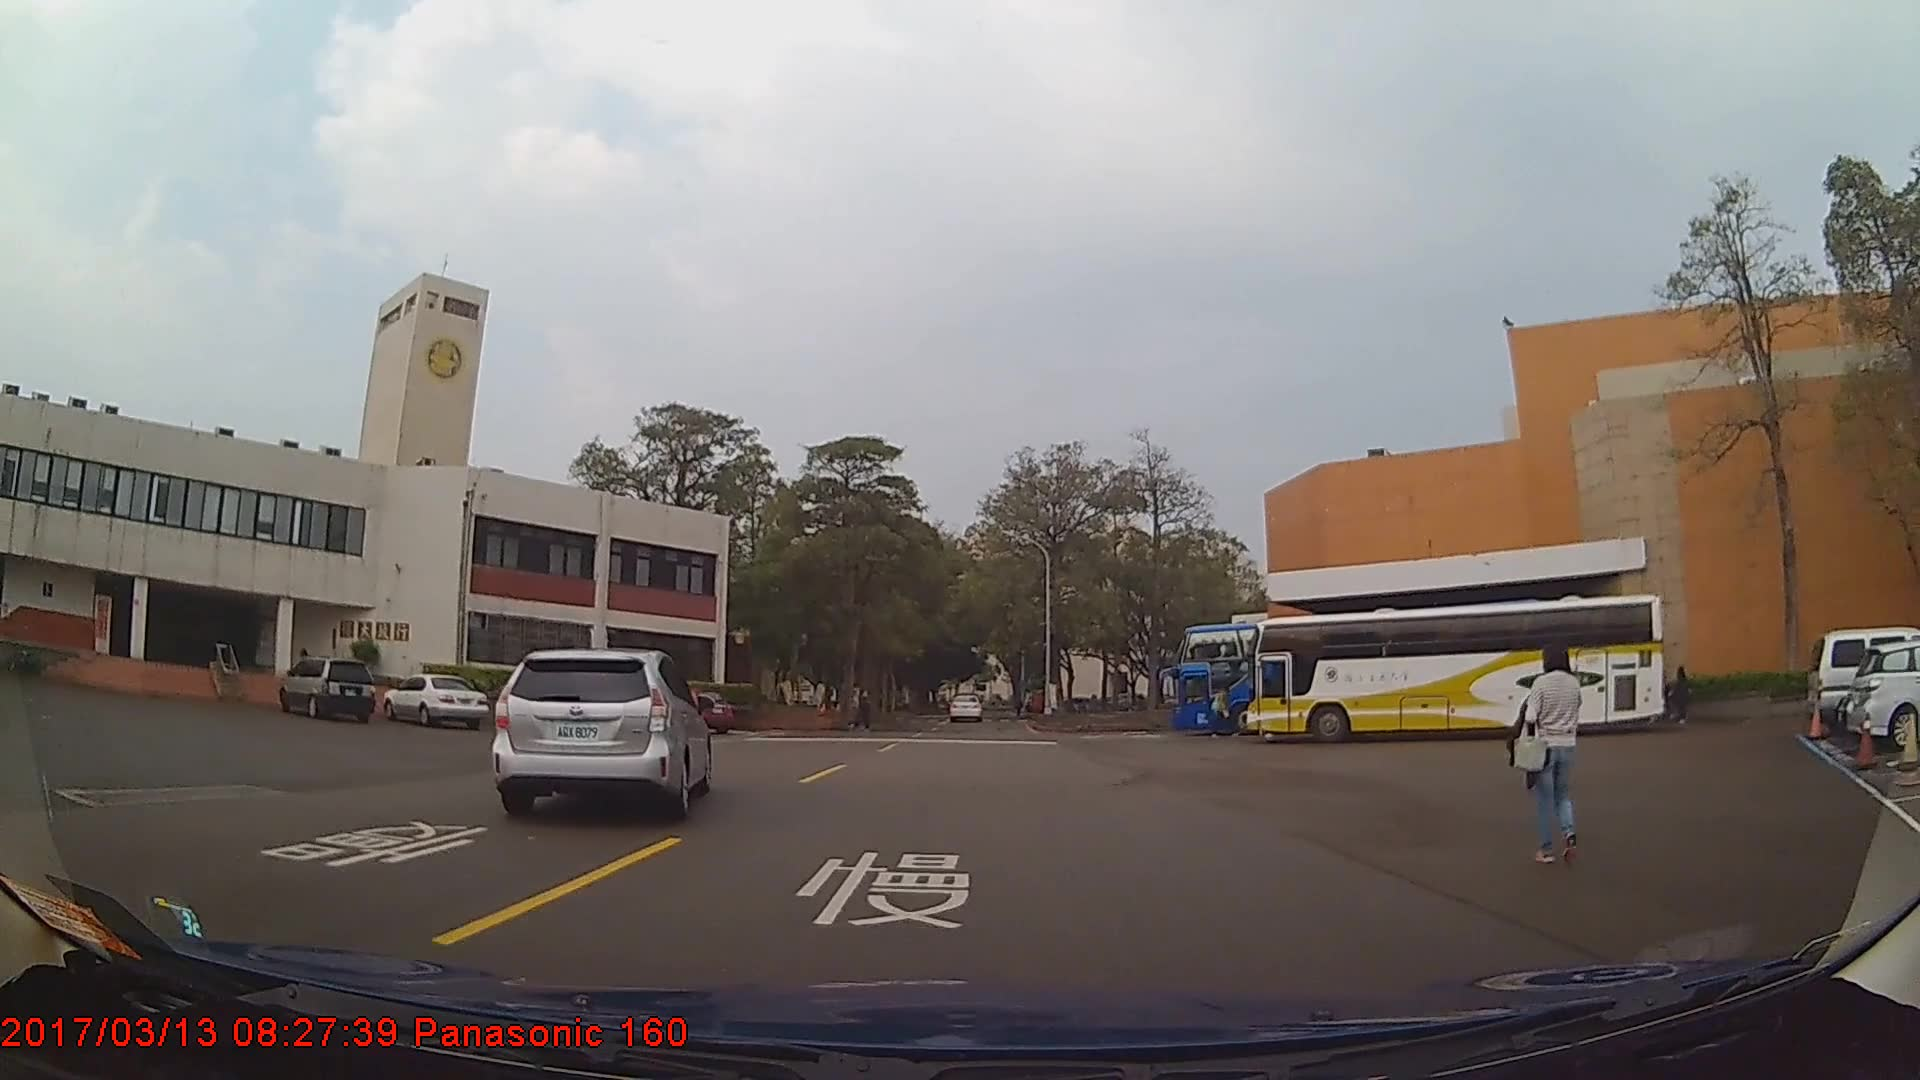pedestrian: (1511, 644, 1587, 864), (1665, 660, 1704, 730), (849, 683, 875, 734)
vehicle: (1243, 592, 1668, 748), (1169, 620, 1529, 739), (490, 649, 711, 825), (1805, 626, 1920, 732), (1845, 637, 1920, 748), (274, 656, 376, 720), (379, 672, 486, 726), (949, 693, 982, 723)
